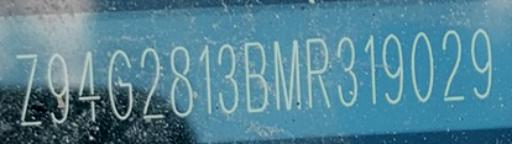letter: (272, 37, 302, 113), (303, 35, 333, 109), (137, 45, 167, 119), (106, 47, 136, 121), (14, 52, 44, 126), (75, 48, 103, 124), (439, 27, 467, 102), (408, 28, 436, 103), (468, 26, 496, 100), (242, 40, 270, 114), (168, 43, 194, 119), (46, 50, 72, 124), (335, 34, 359, 108), (381, 32, 405, 105), (216, 41, 240, 114), (196, 43, 216, 117), (360, 32, 378, 105)
